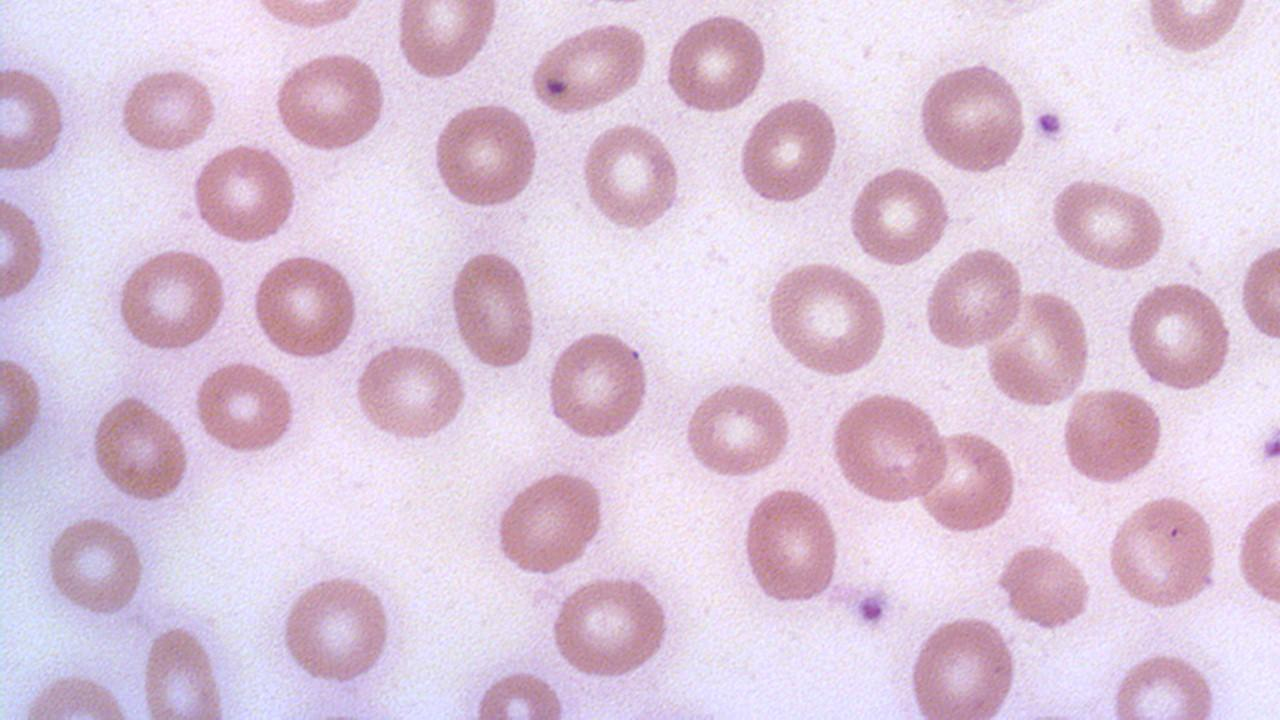Platelets: (1254, 420, 1280, 469)
RBC: (761, 258, 891, 379), (826, 390, 950, 507), (276, 570, 398, 686), (981, 286, 1095, 410), (914, 58, 1031, 176), (1104, 493, 1218, 613), (548, 574, 676, 680), (738, 484, 844, 610), (1121, 278, 1235, 393), (492, 467, 610, 577), (542, 328, 654, 443), (271, 48, 389, 157), (249, 250, 362, 363), (113, 245, 228, 356), (430, 98, 541, 212), (904, 612, 1022, 718), (350, 340, 470, 444), (1045, 174, 1171, 273), (576, 121, 684, 235), (845, 164, 963, 268), (734, 95, 843, 207), (528, 18, 650, 118), (190, 141, 300, 248), (87, 393, 191, 506), (446, 246, 540, 371), (912, 427, 1020, 535), (661, 10, 769, 118), (1057, 385, 1169, 488), (681, 379, 795, 480), (42, 513, 149, 619), (921, 244, 1024, 354), (190, 360, 300, 455), (114, 64, 219, 156), (992, 542, 1097, 632), (393, 2, 502, 84), (137, 621, 229, 717), (1, 57, 72, 178), (1110, 648, 1226, 716), (1136, 1, 1254, 60), (0, 183, 51, 314), (15, 668, 140, 718), (1, 350, 49, 470), (468, 666, 572, 720), (1234, 488, 1280, 610), (1237, 236, 1279, 347), (241, 0, 376, 32)
